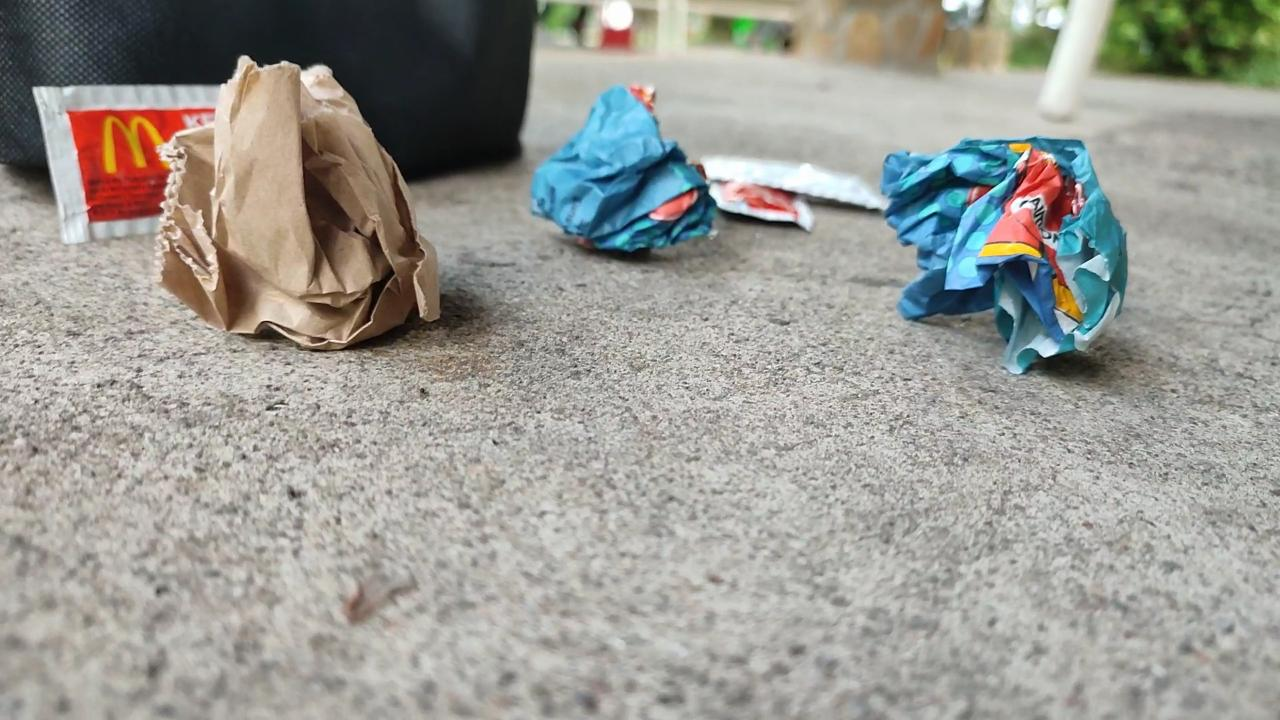Paper: (144, 45, 458, 342), (869, 110, 1149, 388), (512, 54, 722, 294)
